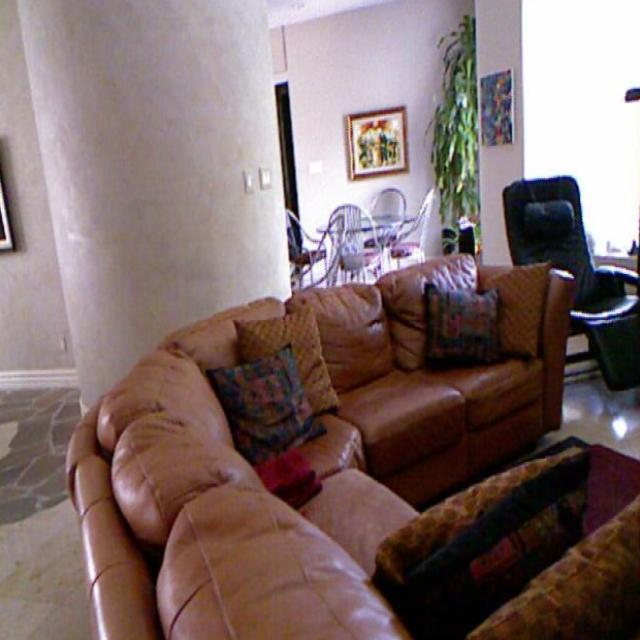obstacle: (500, 159, 640, 415), (278, 165, 434, 295)
